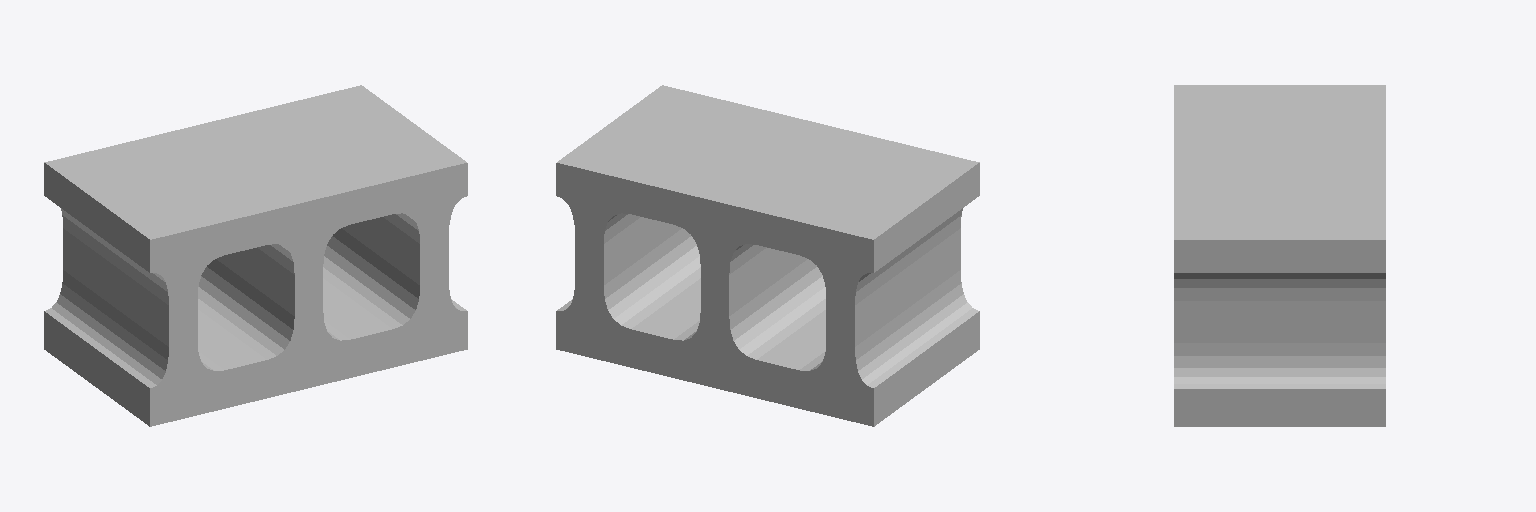
Rendered from Cinder block.obj.
3 renders of one model, left to right at view 1: azimuth 30°, elevation 25°; view 2: azimuth 150°, elevation 25°; view 3: azimuth 270°, elevation 25°, orthographic.
Parts seen in each view (by area): view 1: Box001; view 2: Box001; view 3: Box001.
Part boxes in pixels (bbox=[...]): Box001: bbox=[44, 85, 467, 426]; Box001: bbox=[556, 85, 979, 426]; Box001: bbox=[1174, 85, 1385, 426].
Size of the model in its own units: 367058 by 206465 by 211940.